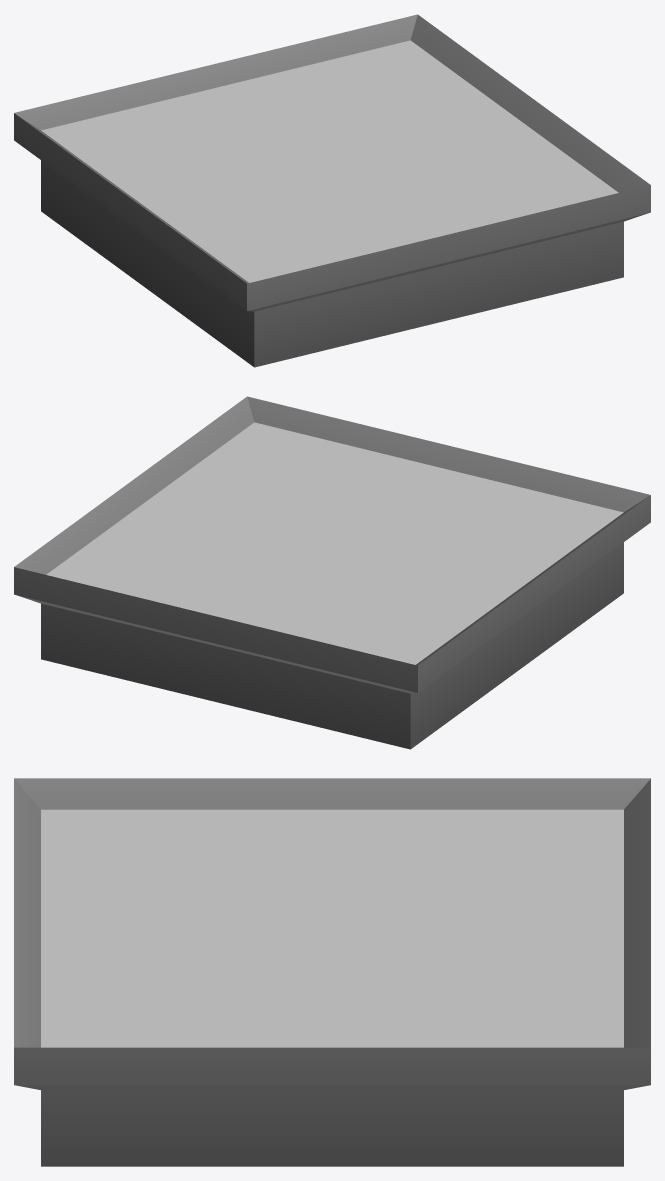
File: PotTanaman.fbx
The picture shows the model from 3 angles, top to bottom: view 1: azimuth 30°, elevation 25°; view 2: azimuth 150°, elevation 25°; view 3: azimuth 270°, elevation 25°; orthographic projection. The views are drawn at different scales.
Parts seen in each view (by area): view 1: PotTanaman_LOD0; view 2: PotTanaman_LOD0; view 3: PotTanaman_LOD0.
Part boxes in pixels (x1,y1,x2,y2): PotTanaman_LOD0: [14, 14, 650, 367]; PotTanaman_LOD0: [14, 396, 650, 749]; PotTanaman_LOD0: [14, 778, 650, 1166].
Size of what is drawn, in the model's own units: 215 by 48.64 by 215.
